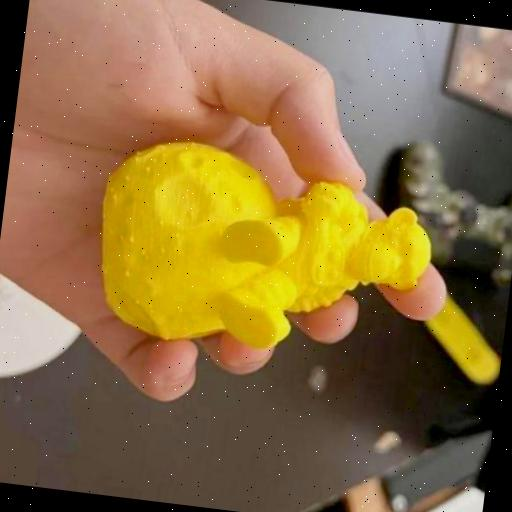blobs: (186, 208, 200, 220), (126, 233, 138, 247), (169, 231, 181, 243), (142, 164, 154, 176), (132, 152, 144, 164), (156, 218, 166, 230), (122, 172, 134, 182), (138, 248, 148, 258), (175, 306, 187, 314), (147, 300, 156, 310), (150, 155, 159, 165), (156, 245, 166, 253), (124, 269, 132, 279), (144, 253, 152, 262), (134, 298, 142, 306)
